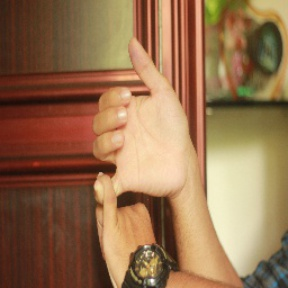S: (89, 35, 188, 284)
